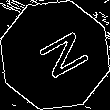N_SW: (23, 25, 87, 85)
